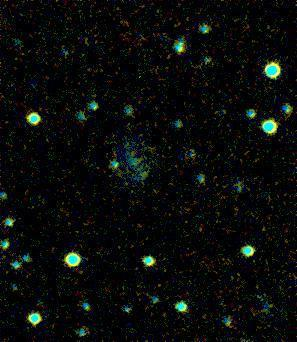star: (131, 161, 161, 191)
